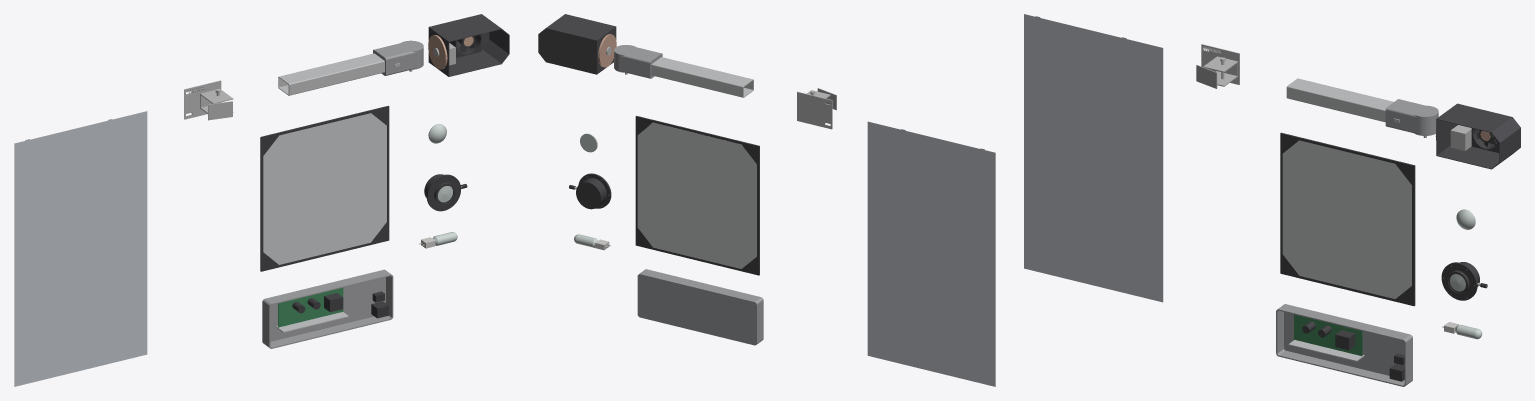
File: byggjesett.glb
3 views of the same model, side by side, from view 1: azimuth 30°, elevation 25°; view 2: azimuth 150°, elevation 25°; view 3: azimuth 330°, elevation 25° (orthographic). The views are drawn at different scales.
Parts seen in each view (by area): view 1: P08_prismeark_ark, P05_fresnelspegel_plate, P04_base_brett, P03_hovud_hus, P05_fresnelspegel_ramme, P01_arm_profil, P01_arm_kappe, P04_base_kort, P07_projeksjonslinse_fatning, P02_hengsel_plate, P03_hovud_lager, P04_base_kjoleplate (+1 smaller); view 2: P08_prismeark_ark, P05_fresnelspegel_plate, P04_base_brett, P03_hovud_hus, P01_arm_profil, P05_fresnelspegel_ramme, P01_arm_kappe, P02_hengsel_plate, P07_projeksjonslinse_fatning, P03_hovud_lager; view 3: P08_prismeark_ark, P05_fresnelspegel_plate, P04_base_brett, P03_hovud_hus, P05_fresnelspegel_ramme, P01_arm_profil, P01_arm_kappe, P04_base_kort, P07_projeksjonslinse_fatning, P02_hengsel_kanal, P02_hengsel_plate, P04_base_kjoleplate (+2 smaller).
Boxes of the visible parts, left/top/right/bottom form: P08_prismeark_ark: left=14, top=111, right=147, bottom=386; P05_fresnelspegel_plate: left=263, top=113, right=386, bottom=264; P04_base_brett: left=262, top=269, right=393, bottom=348; P03_hovud_hus: left=428, top=14, right=509, bottom=76; P05_fresnelspegel_ramme: left=260, top=105, right=389, bottom=271; P01_arm_profil: left=278, top=53, right=384, bottom=95; P01_arm_kappe: left=373, top=40, right=423, bottom=75; P04_base_kort: left=278, top=287, right=343, bottom=327; P07_projeksjonslinse_fatning: left=424, top=174, right=460, bottom=211; P02_hengsel_plate: left=184, top=80, right=221, bottom=119; P03_hovud_lager: left=428, top=35, right=447, bottom=69; P04_base_kjoleplate: left=276, top=312, right=348, bottom=332; P08_prismeark_ark: left=867, top=121, right=995, bottom=386; P05_fresnelspegel_plate: left=637, top=122, right=756, bottom=268; P04_base_brett: left=637, top=269, right=763, bottom=345; P03_hovud_hus: left=538, top=14, right=616, bottom=74; P01_arm_profil: left=651, top=57, right=753, bottom=97; P05_fresnelspegel_ramme: left=635, top=116, right=759, bottom=275; P01_arm_kappe: left=614, top=45, right=662, bottom=78; P02_hengsel_plate: left=797, top=91, right=832, bottom=129; P07_projeksjonslinse_fatning: left=576, top=173, right=611, bottom=209; P03_hovud_lager: left=598, top=34, right=616, bottom=67; P08_prismeark_ark: left=1024, top=14, right=1163, bottom=302; P05_fresnelspegel_plate: left=1282, top=140, right=1411, bottom=298; P04_base_brett: left=1276, top=304, right=1412, bottom=386; P03_hovud_hus: left=1436, top=103, right=1520, bottom=169; P05_fresnelspegel_ramme: left=1280, top=132, right=1415, bottom=306; P01_arm_profil: left=1286, top=78, right=1393, bottom=122; P01_arm_kappe: left=1385, top=99, right=1438, bottom=135; P04_base_kort: left=1294, top=314, right=1362, bottom=356; P07_projeksjonslinse_fatning: left=1441, top=262, right=1479, bottom=300; P02_hengsel_kanal: left=1203, top=56, right=1237, bottom=86; P02_hengsel_plate: left=1201, top=44, right=1239, bottom=84; P04_base_kjoleplate: left=1288, top=340, right=1364, bottom=361.
Bounding box in the file's own units: 1093 × 608 × 80.
